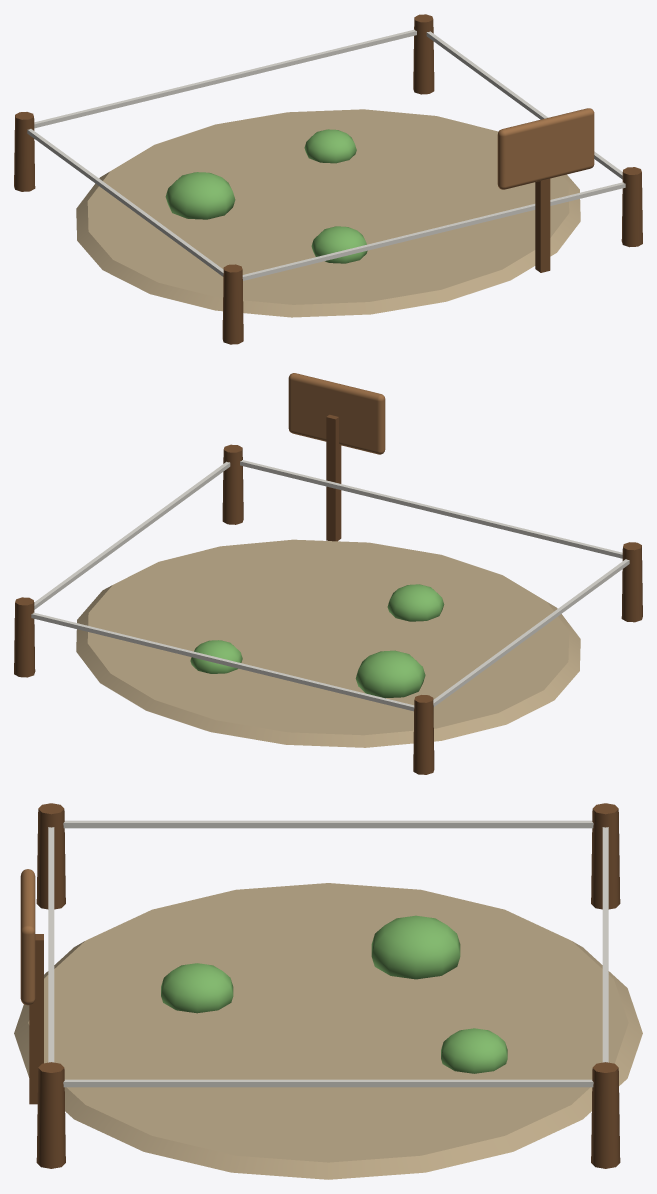
Rendered from prop_town_lot_ph.glb.
3 views of the same model, one above another, from view 1: azimuth 30°, elevation 25°; view 2: azimuth 150°, elevation 25°; view 3: azimuth 270°, elevation 25° (orthographic). The views are drawn at different scales.
Visible parts, largest first — view 1: prop_town_lot; view 2: prop_town_lot; view 3: prop_town_lot.
Boxes of the visible parts, x1,y1,x2,y2 form: prop_town_lot: (14, 14, 642, 344); prop_town_lot: (14, 373, 642, 774); prop_town_lot: (14, 803, 642, 1179).
Bounding box in the file's own units: 2.38 × 0.802 × 2.16.
